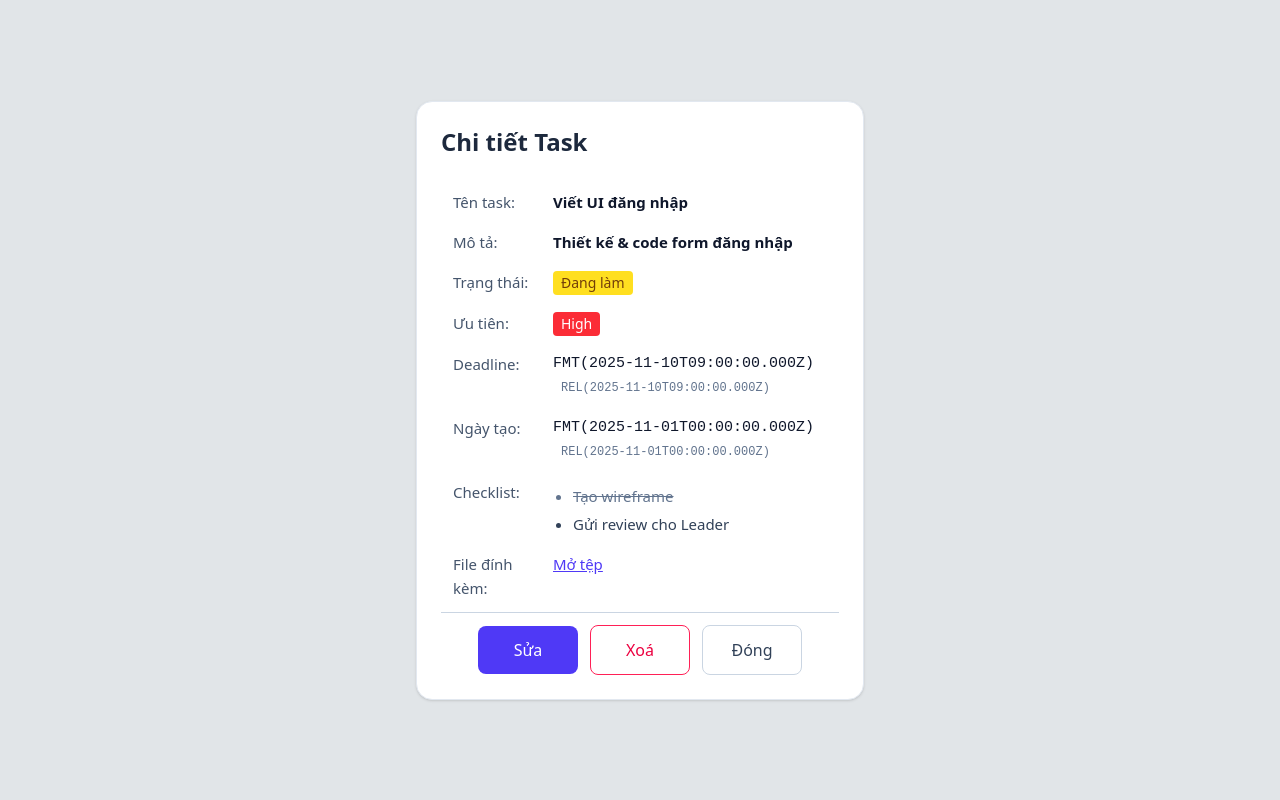
Test: DetailTask Page › Xoá: bấm Hủy trong ConfirmDialog → không gọi deleteTask
Click the button "Xoá": (640, 650) [590,624,690,674]
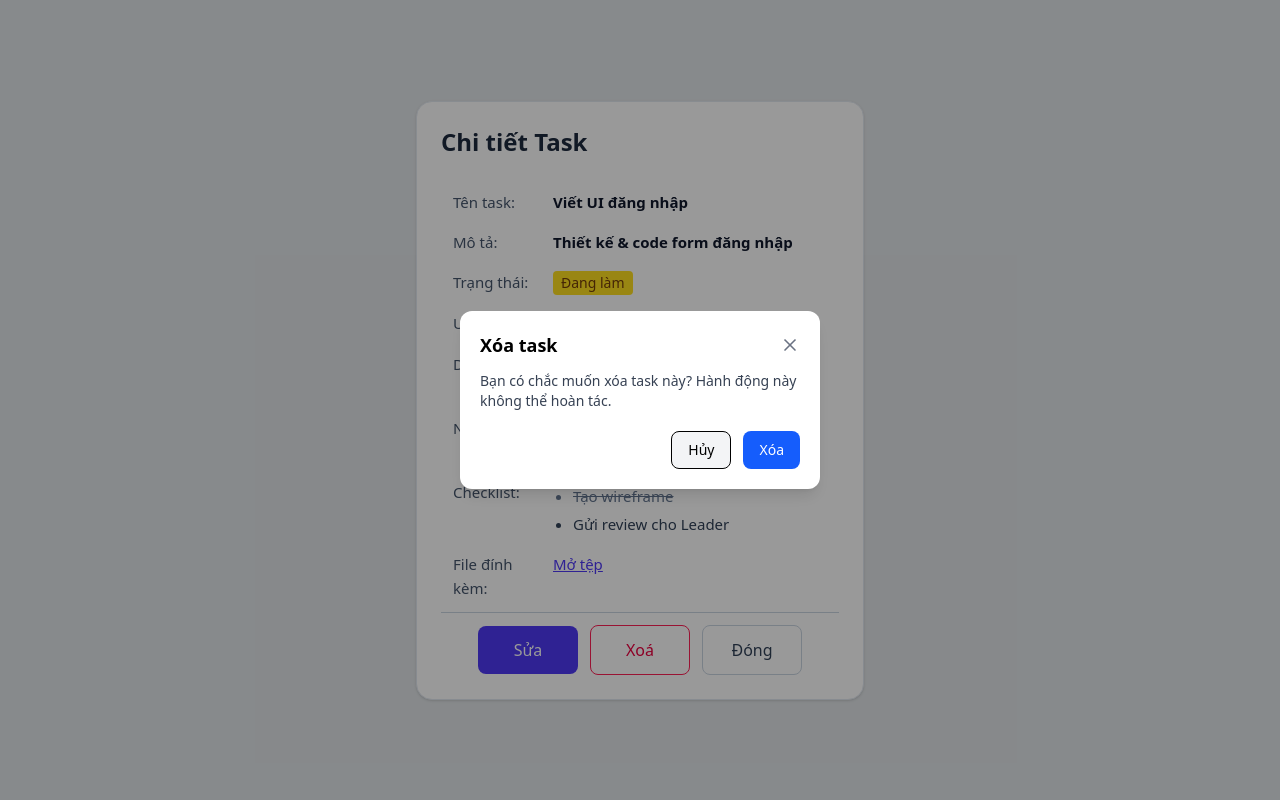
Expected: the button "Hủy" is shown
Click the button "Hủy": (701, 450) [671,431,732,469]
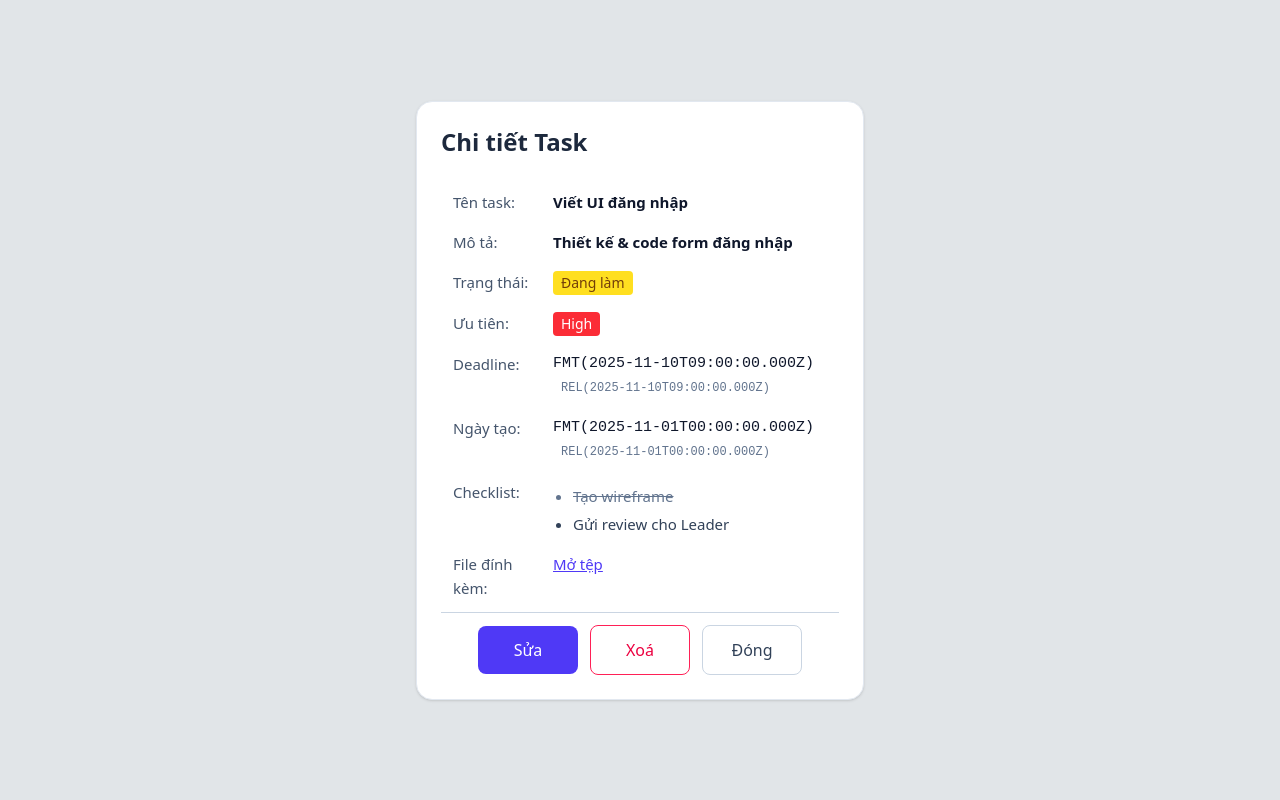
Expected: the dialog is gone
